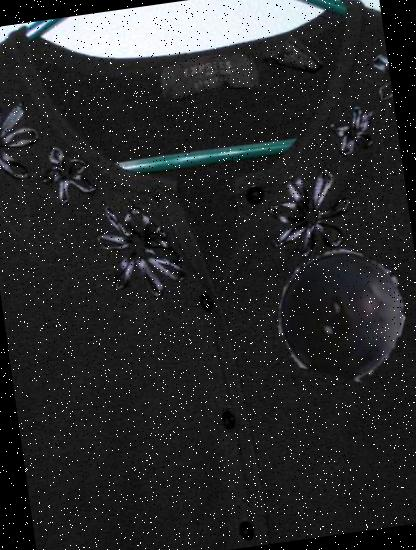Grape: (272, 242, 412, 384)
